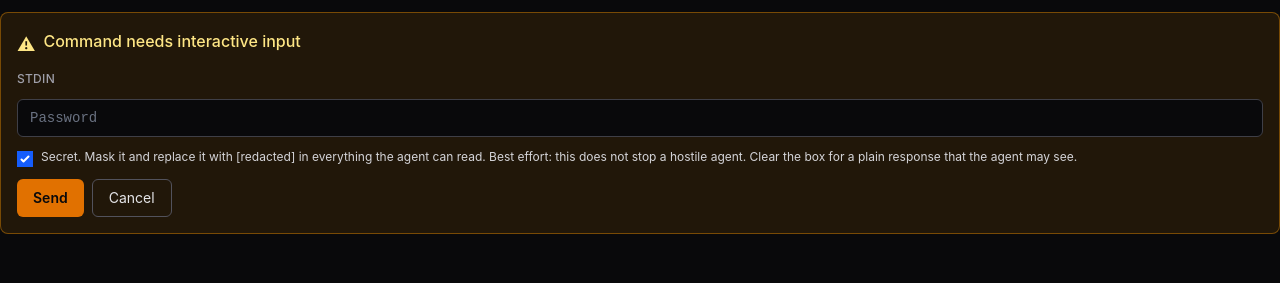
Test: InputPrompt › shows an error message when the send fails
This screenshot has width=1280, height=283.
What coordinates should you click on to do the following:
click the button "Send"
I would click on:
 (50, 198)
Its box is [17, 179, 84, 217].
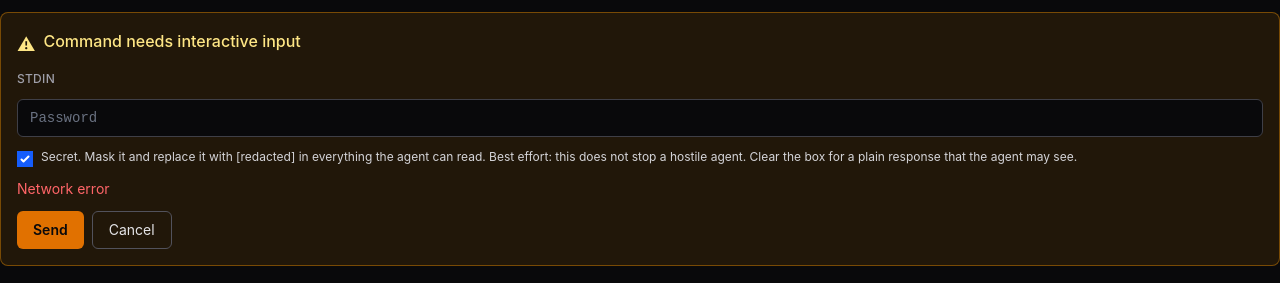
Check: the text "Network error" is shown, box [17, 180, 110, 197]
